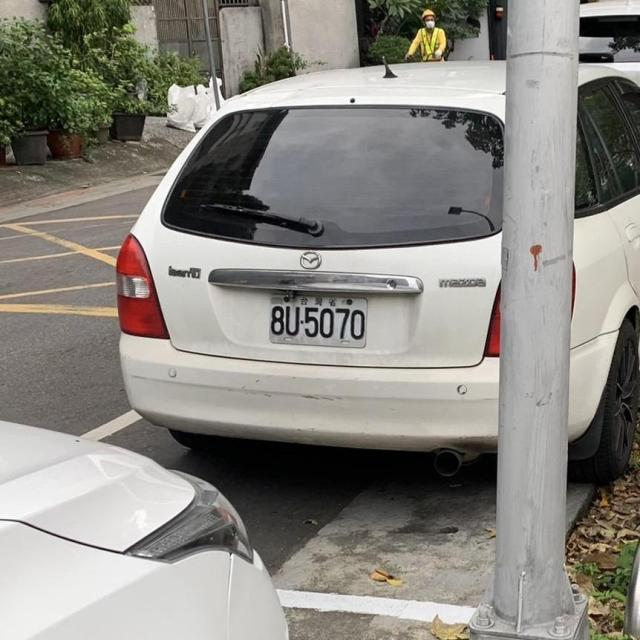W: (261, 283, 373, 355)
